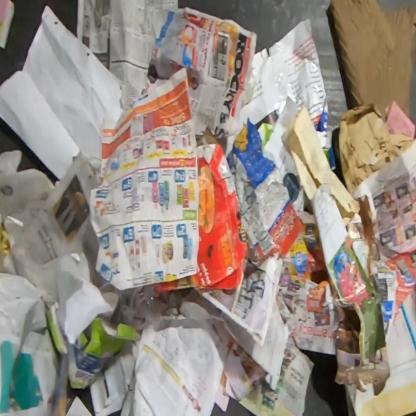cardboard: (152, 143, 247, 297), (226, 116, 306, 260), (328, 0, 415, 124), (43, 299, 144, 391)
